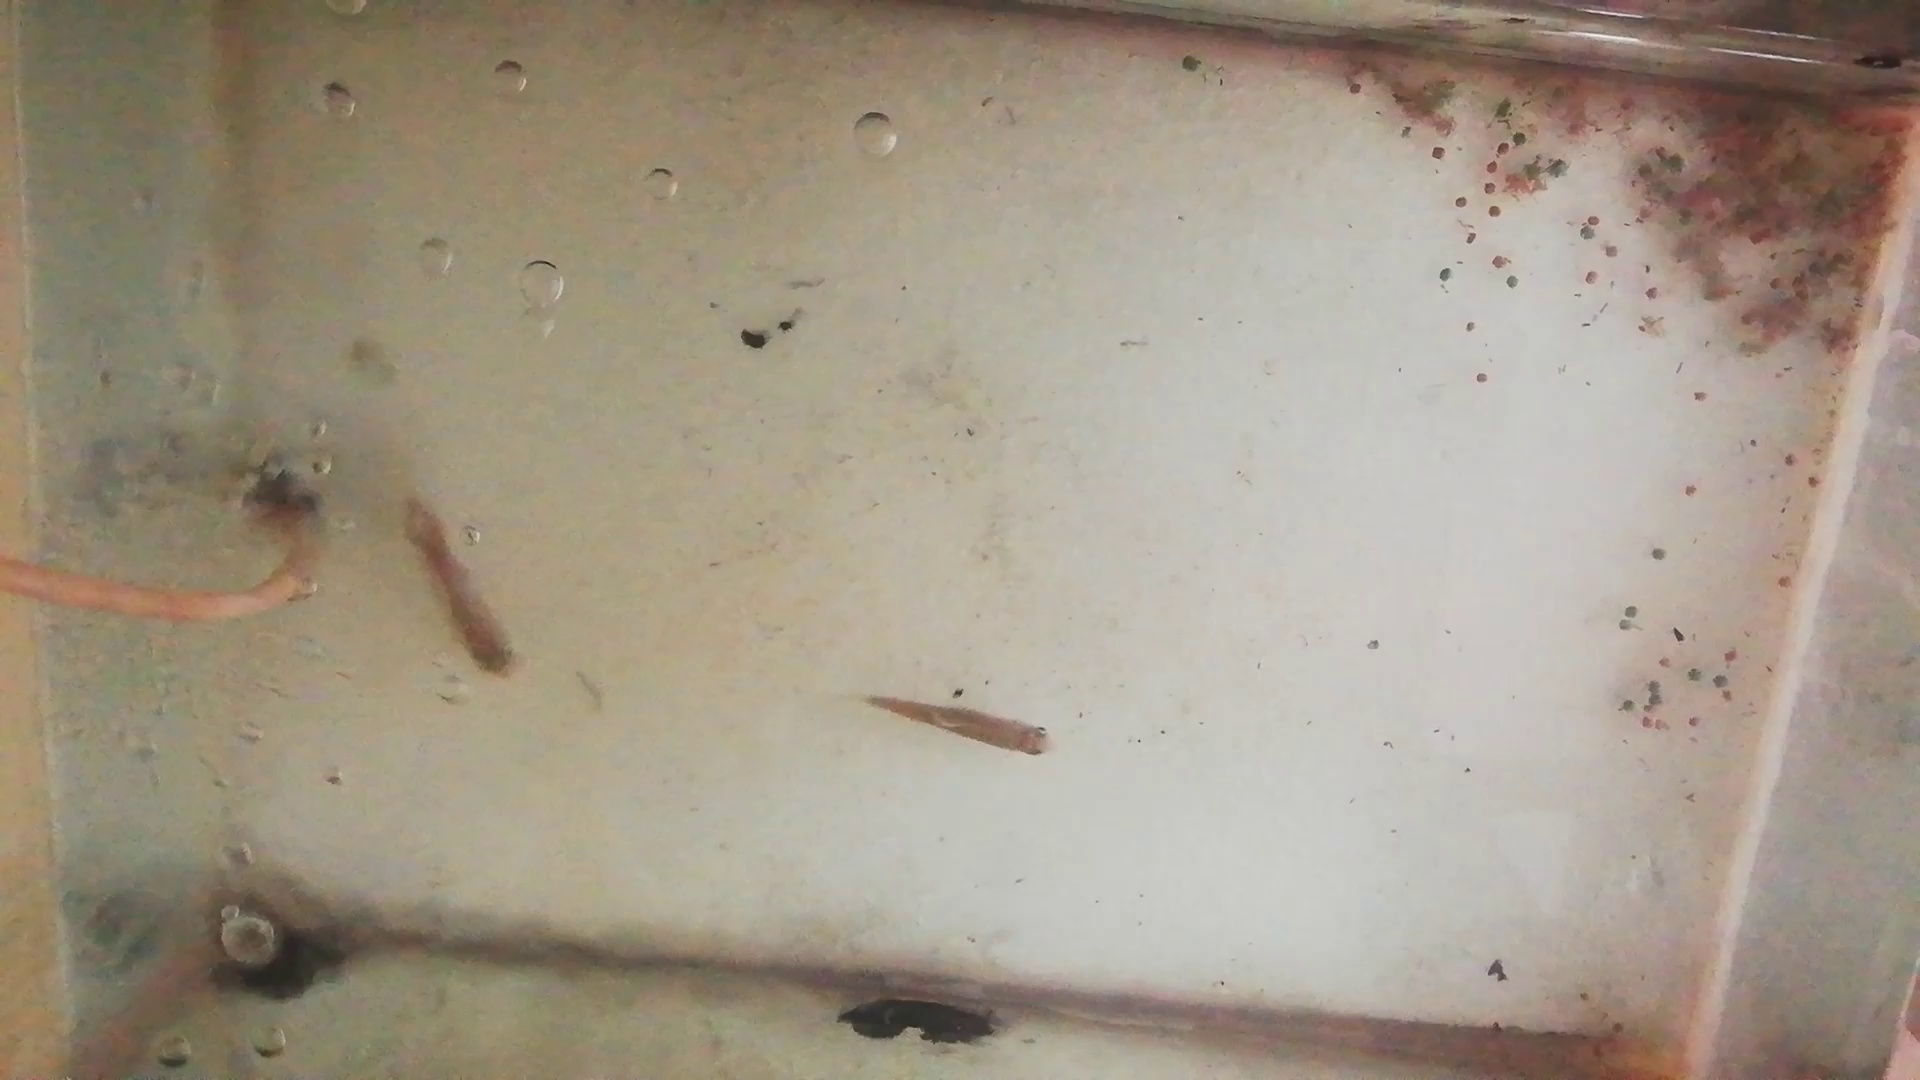fish: (400, 495, 522, 682), (866, 694, 1056, 762)
